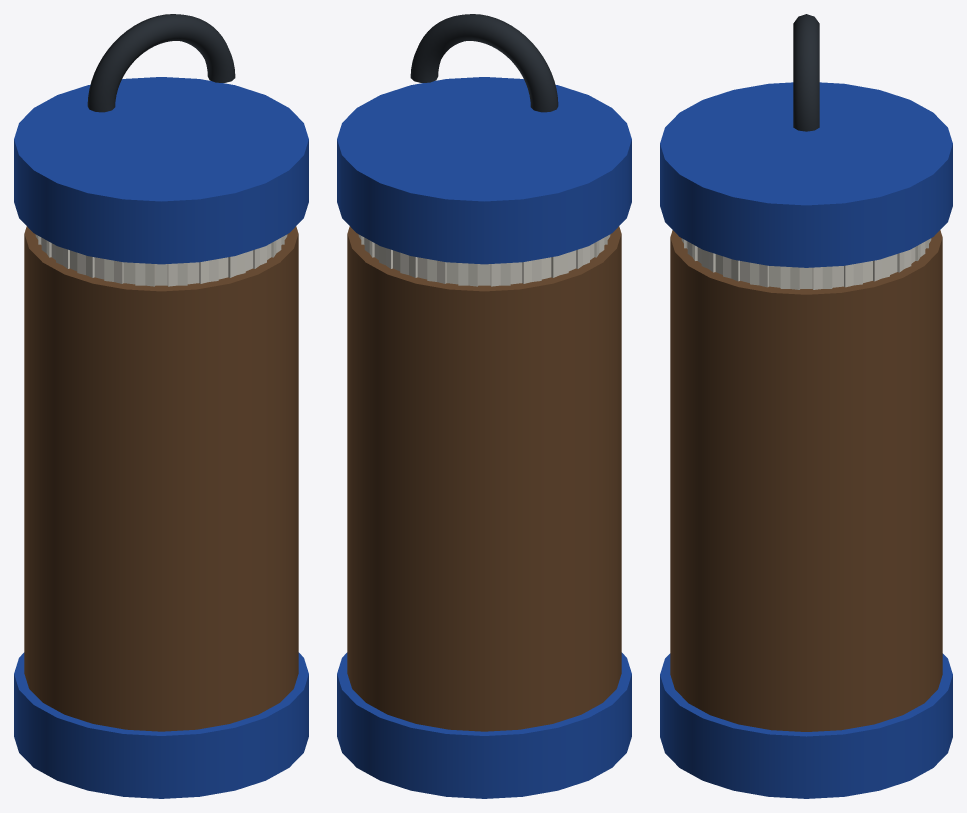
Rendered from filter-cartridge.glb.
3 views of the same model, side by side, from view 1: azimuth 30°, elevation 25°; view 2: azimuth 150°, elevation 25°; view 3: azimuth 270°, elevation 25° (orthographic).
Parts seen in each view (by area): view 1: grime-filter-grime, filter-cartridge-nasa-blue, handle-dark-polymer, filter-cartridge-filter-pleat; view 2: grime-filter-grime, filter-cartridge-nasa-blue, handle-dark-polymer, filter-cartridge-filter-pleat; view 3: grime-filter-grime, filter-cartridge-nasa-blue, filter-cartridge-filter-pleat, handle-dark-polymer.
Part boxes in pixels (<box>): grime-filter-grime: <box>24,226,298,731</box>; filter-cartridge-nasa-blue: <box>14,77,308,798</box>; handle-dark-polymer: <box>87,14,235,112</box>; filter-cartridge-filter-pleat: <box>35,234,287,286</box>; grime-filter-grime: <box>347,226,621,731</box>; filter-cartridge-nasa-blue: <box>337,77,631,798</box>; handle-dark-polymer: <box>410,14,558,112</box>; filter-cartridge-filter-pleat: <box>358,234,610,286</box>; grime-filter-grime: <box>670,230,942,731</box>; filter-cartridge-nasa-blue: <box>660,82,952,798</box>; filter-cartridge-filter-pleat: <box>681,238,931,289</box>; handle-dark-polymer: <box>793,14,819,131</box>.
Bounding box in the file's own units: 0.17 × 0.458 × 0.17.
